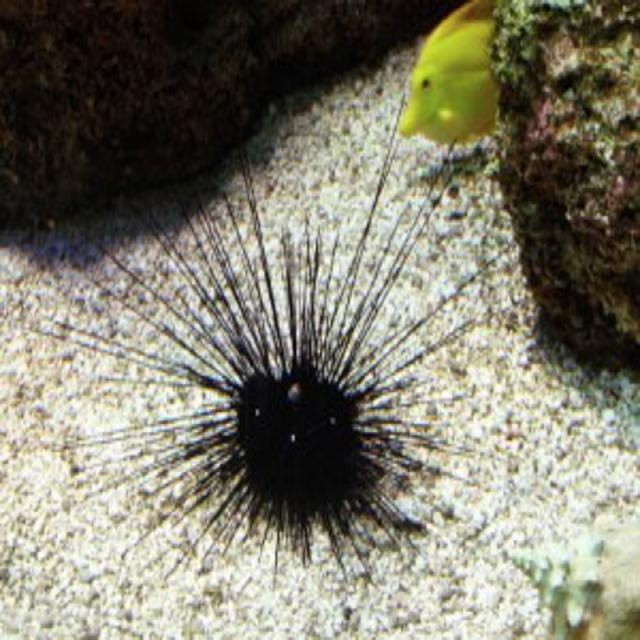Urchin: (77, 98, 495, 550)
